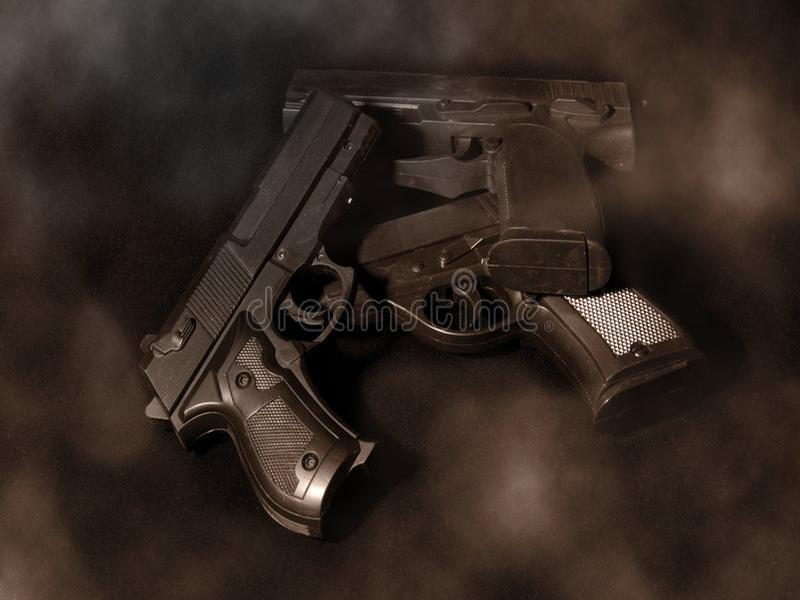GUN: (136, 59, 720, 545)
